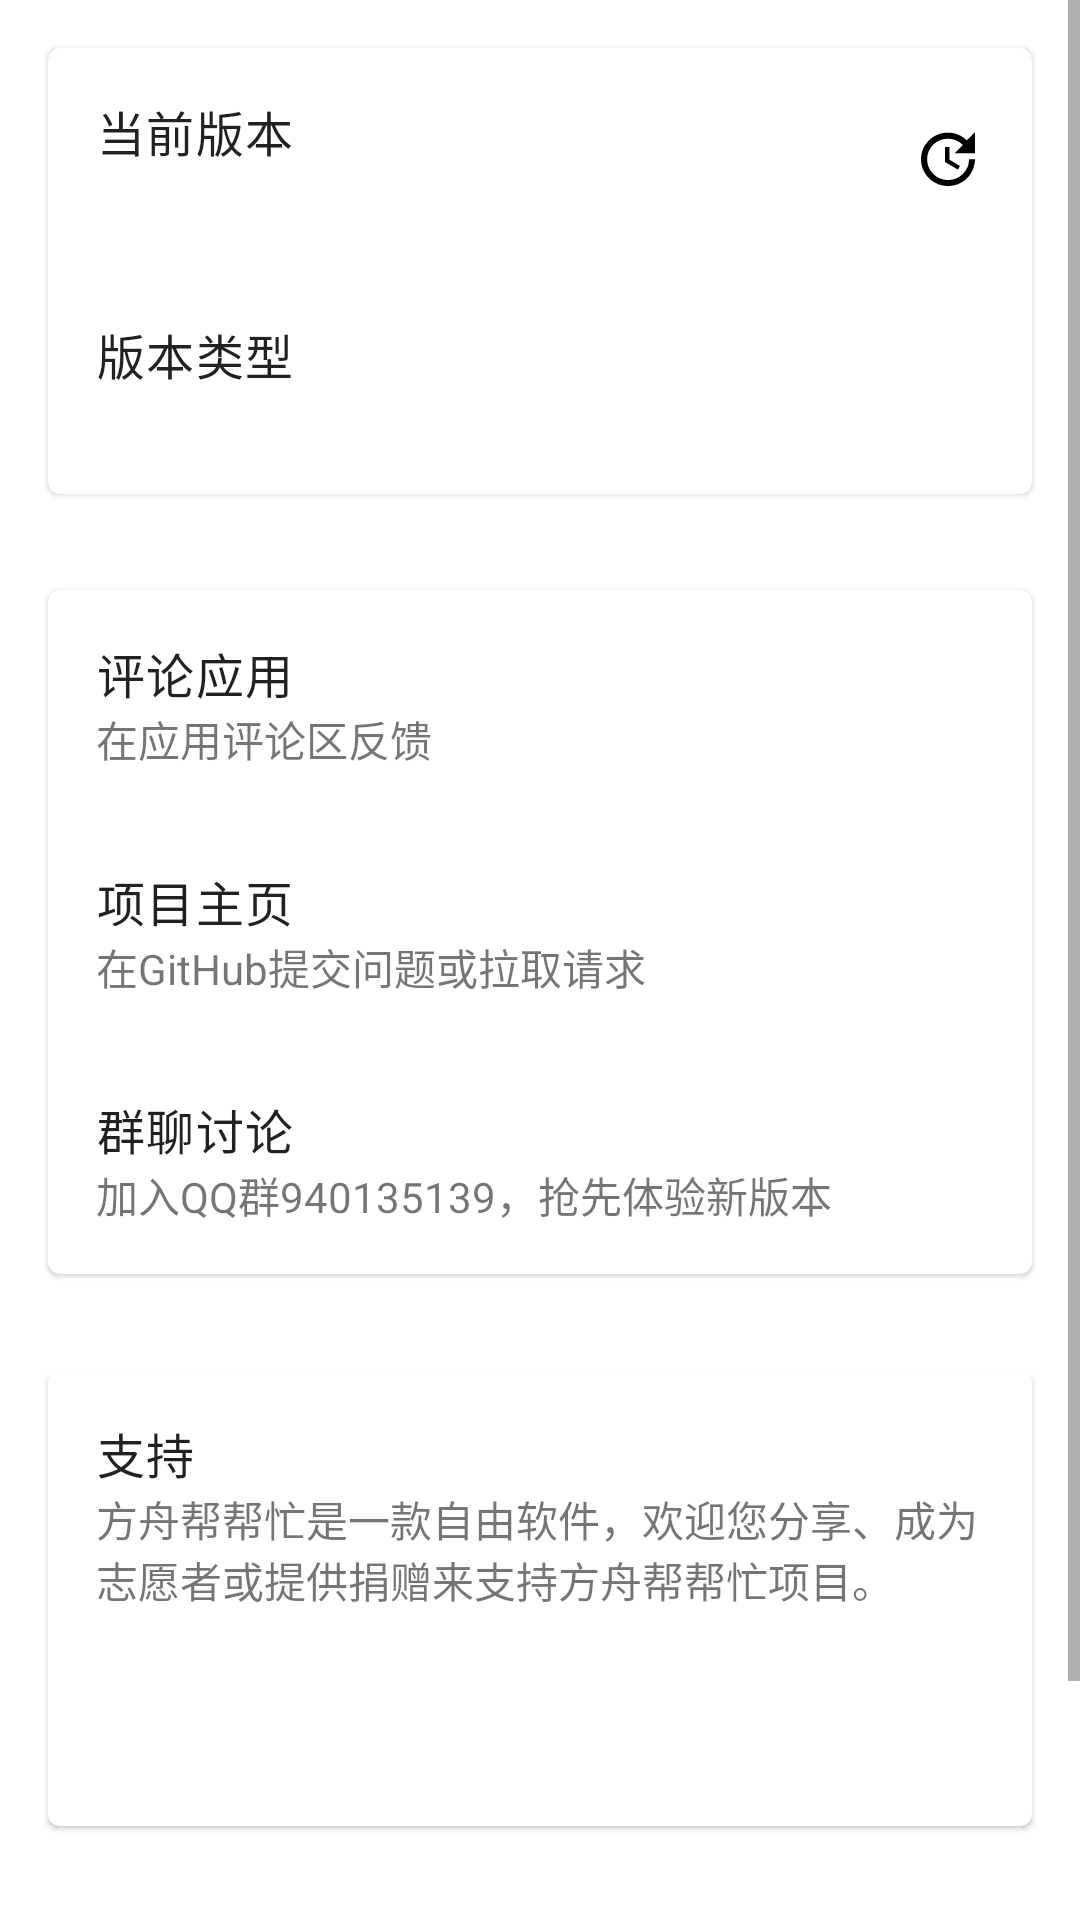

Icons on this 1080x1920 Android screen, each with the point to tap as (x,y):
更新: (948,159)
